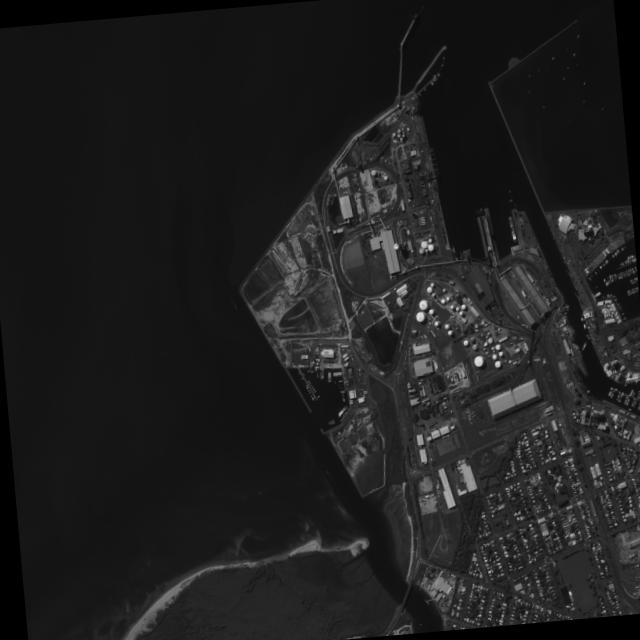ship: (505, 213, 518, 242), (449, 242, 456, 256), (579, 339, 586, 350), (336, 377, 342, 382), (314, 393, 319, 398), (308, 369, 313, 372)
storage-tank: (472, 353, 484, 366), (417, 298, 428, 309), (414, 311, 425, 321), (492, 359, 501, 367), (467, 335, 475, 343), (419, 239, 426, 248), (391, 241, 398, 249), (368, 168, 376, 175), (493, 342, 500, 349), (480, 339, 487, 346), (461, 338, 468, 345), (446, 328, 453, 335), (427, 307, 434, 314), (432, 319, 439, 326), (426, 243, 433, 250), (443, 322, 450, 329), (459, 302, 466, 309), (424, 285, 431, 292), (486, 336, 492, 343), (490, 353, 496, 359), (497, 350, 503, 356), (470, 343, 476, 349), (417, 247, 423, 253), (457, 309, 463, 315), (444, 294, 450, 300), (439, 297, 445, 303), (381, 175, 387, 180), (410, 211, 416, 216), (454, 305, 459, 311), (448, 303, 454, 308), (426, 237, 431, 242), (326, 193, 331, 198), (430, 291, 435, 296), (324, 197, 329, 202), (489, 345, 494, 349), (506, 358, 510, 363), (395, 132, 399, 137), (396, 127, 400, 132), (441, 287, 445, 292), (429, 282, 433, 286), (398, 136, 402, 140), (469, 410, 473, 414), (423, 247, 426, 252), (491, 349, 494, 352), (400, 127, 403, 130), (400, 133, 403, 136), (471, 414, 474, 417), (401, 130, 403, 132)
